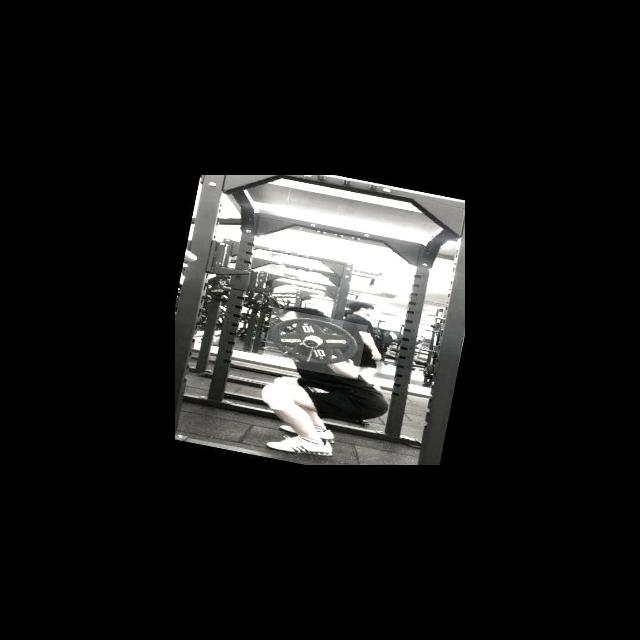barbell: (262, 307, 368, 379)
